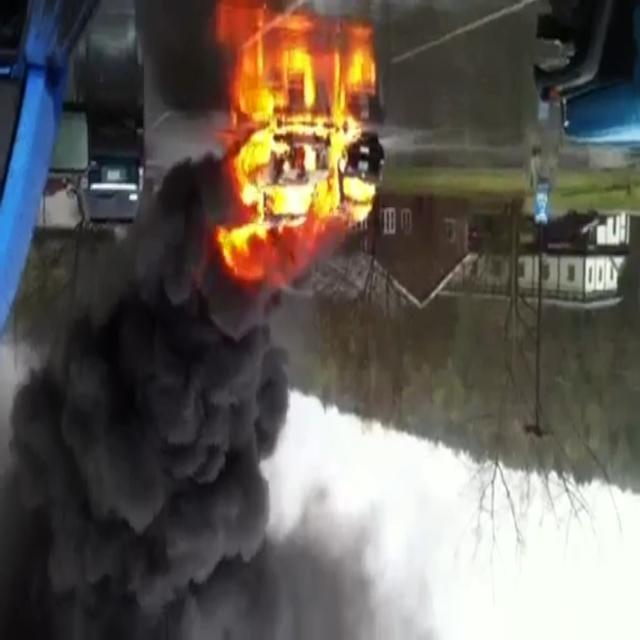fire: (226, 125, 328, 277), (330, 127, 378, 243)
